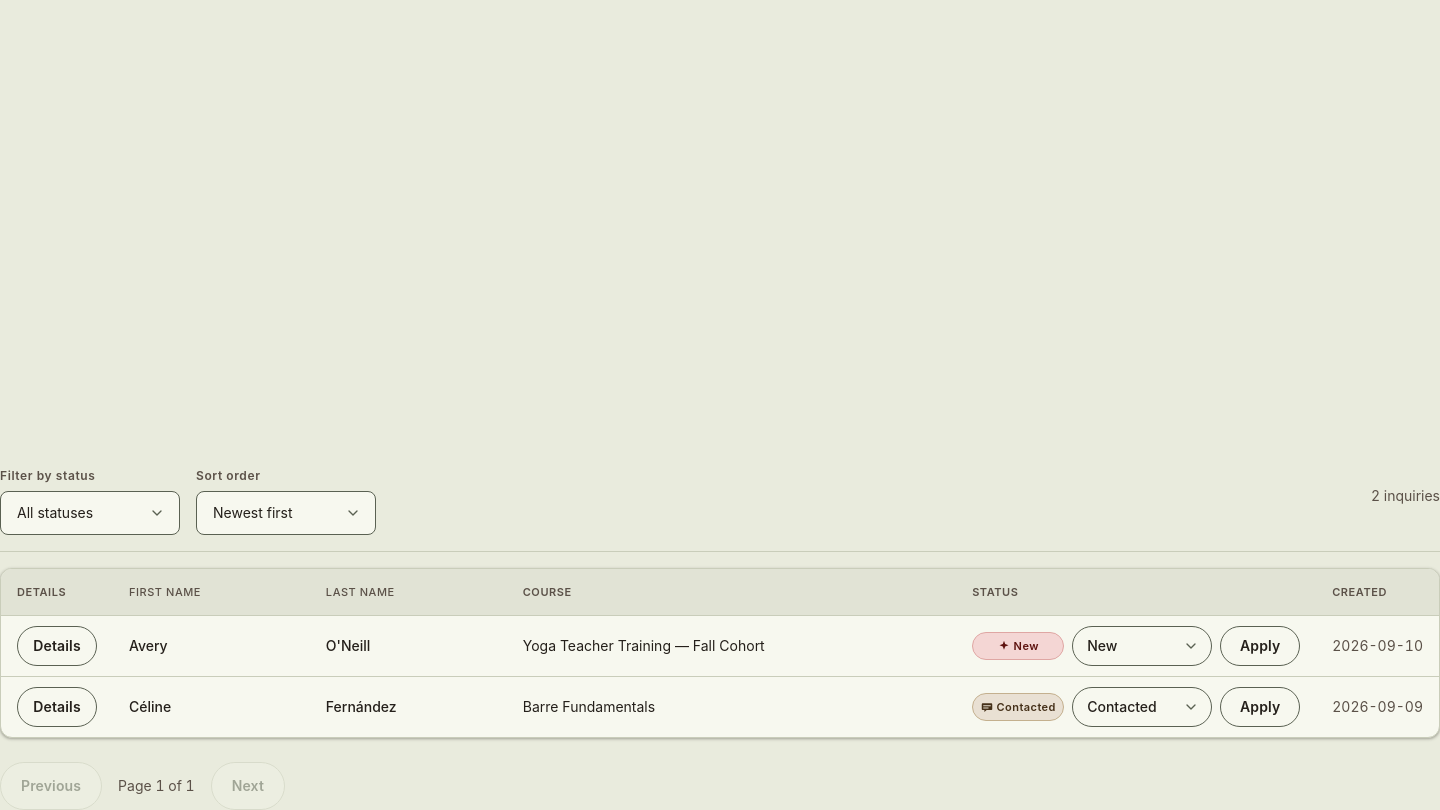
Test case: IT-UI-012 detail panel renders every field with explicit empty markers › renders nullable fields as explicit markers, never the string null
The image size is (1440, 810).
(page scrolled)
Expected: the row "Fernández" is shown, [1, 676, 1439, 737]
Click the button with aria-label "details for Céline Fernández" at (57, 707), box [17, 687, 97, 727]
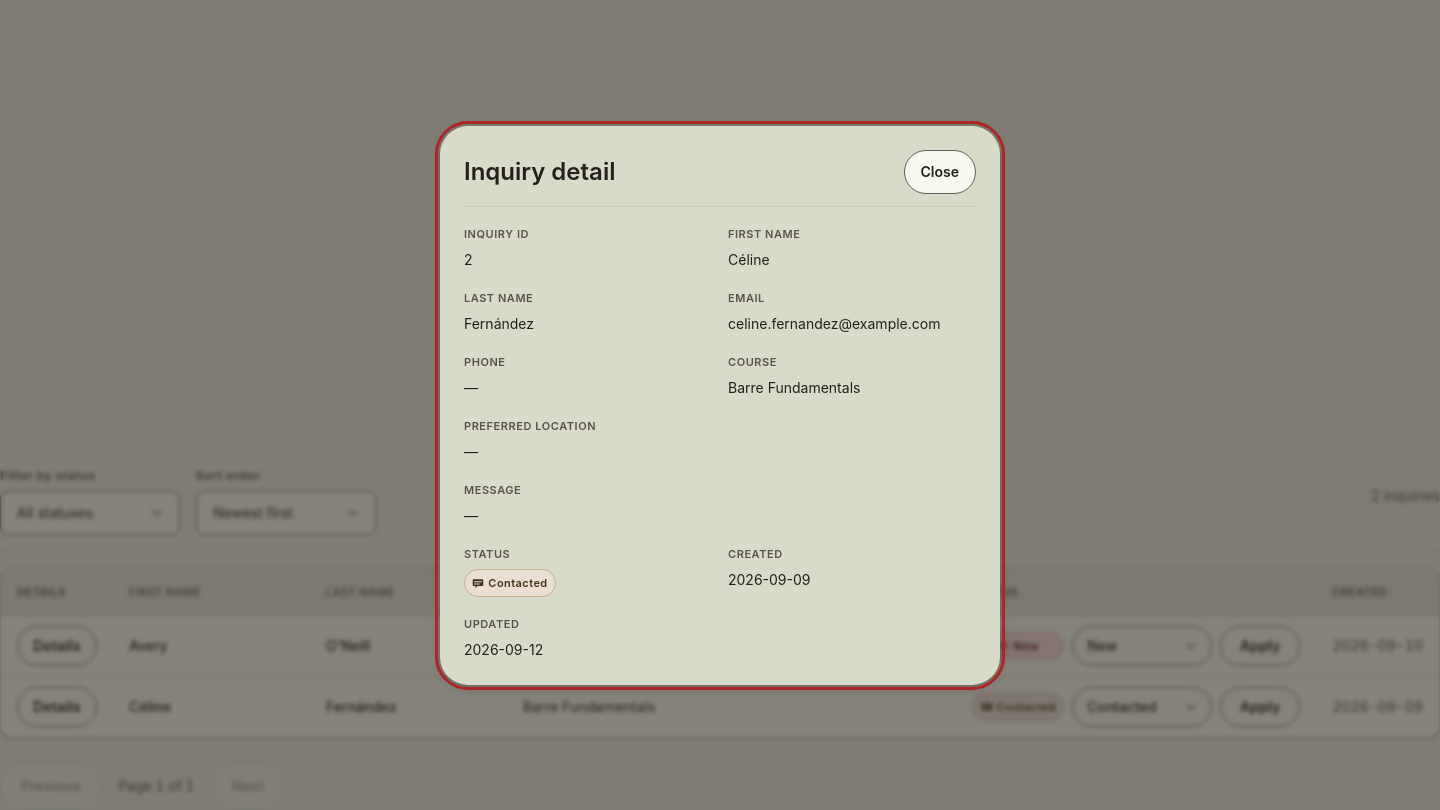
Now the text "Email" is shown, box [728, 290, 765, 304]
Now the text "Céline" is shown, box [728, 250, 770, 268]
Now the text "Fernández" is shown, box [464, 314, 534, 332]
